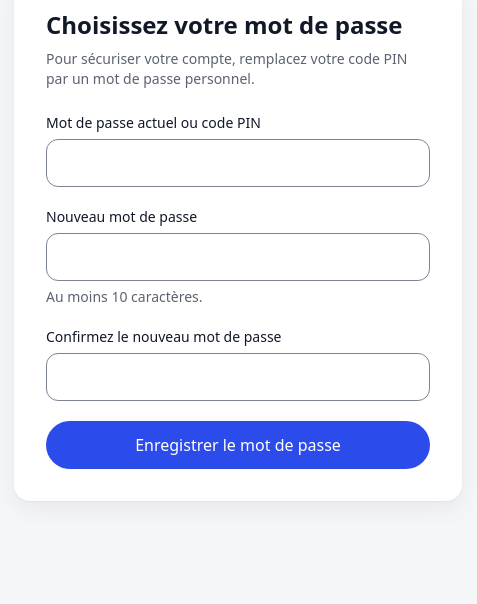
Test case: ChangePasswordForm (fr) › shows other server errors in the current language
Type "12345678" into the password field labelled "Mot de passe actuel ou code PIN" at (238, 163), box [46,139,430,187]
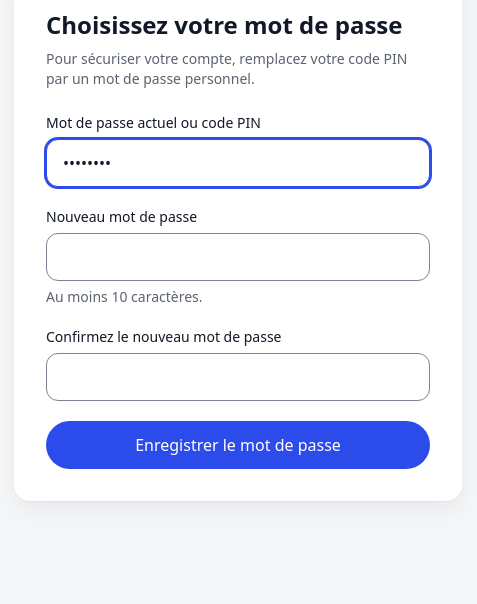
Type "a-brand-new-secret" into the password field labelled "Nouveau mot de passe" at (238, 257), box [46,233,430,281]
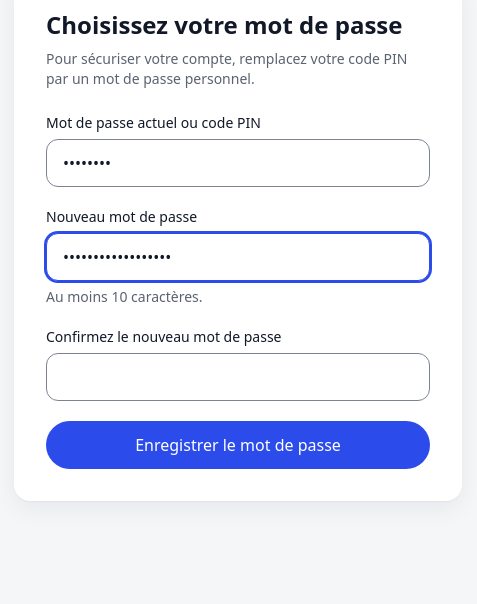
Type "a-brand-new-secret" into the password field labelled "Confirmez le nouveau mot de passe" at (238, 377), box [46,353,430,401]
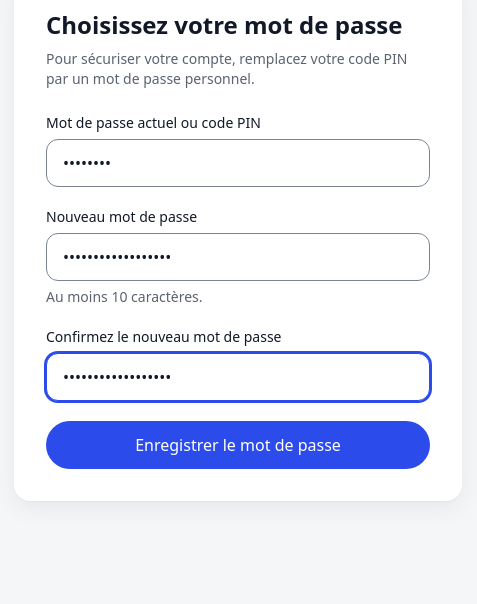
Click the button "Enregistrer le mot de passe" at (238, 445), box [46,421,430,469]
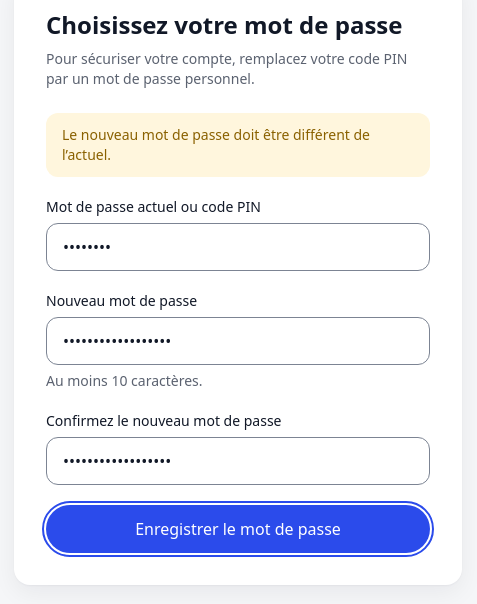
expect the message reads "Le nouveau mot de passe doit être différent de l’actuel.": met, box [62,125,370,164]
